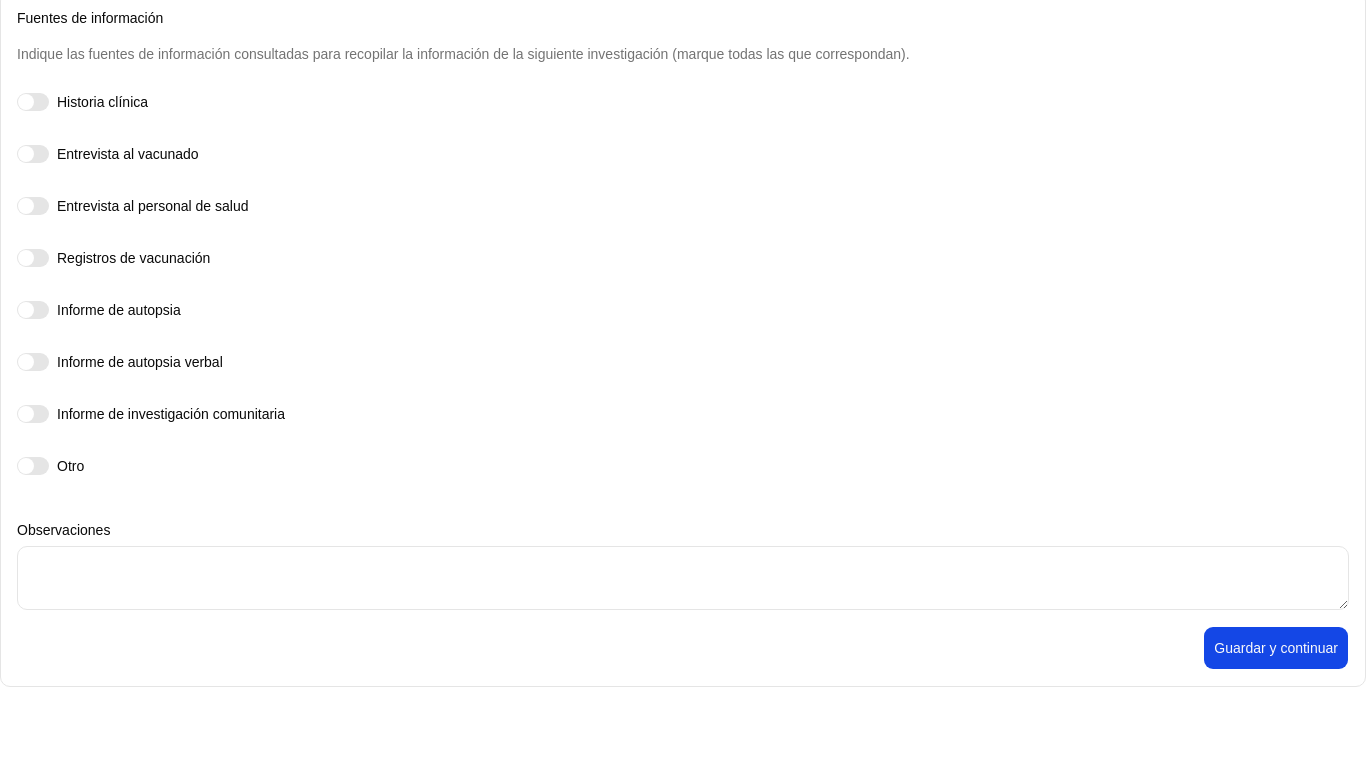
Test: InvestigationStep — el recorrido completo (SPEC FE13a §4 paso 13) › cambiar el estado a muerte y volver a otro antes de guardar no crea la fila de autopsia
Step 1. Click the button "Guardar y continuar" → [1276, 648], box [1203, 626, 1349, 670]
(page scrolled)
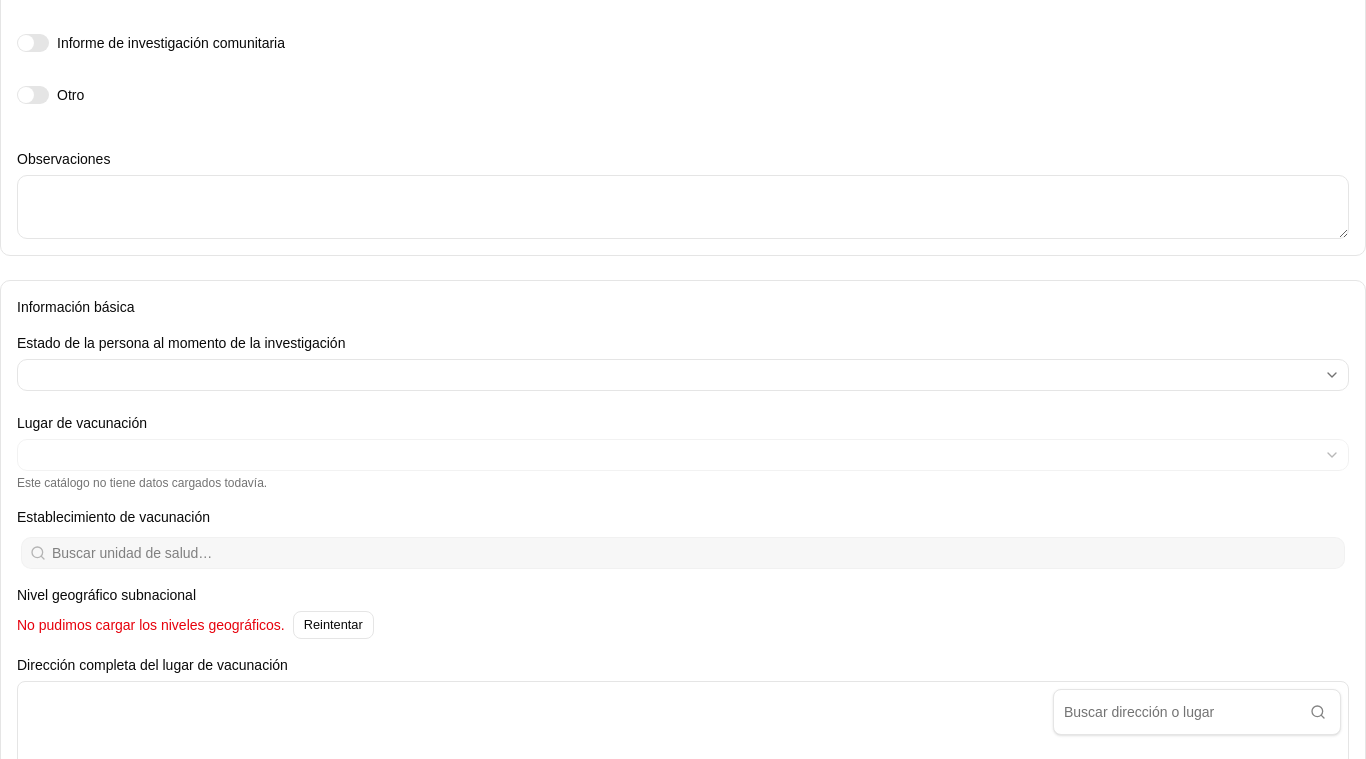
Check: the heading "Información básica" is shown, box [17, 299, 134, 315]
Step 2. Click the dropdown named "Estado de la persona al momento de la investigación" → [1332, 375], box [17, 359, 1349, 391]
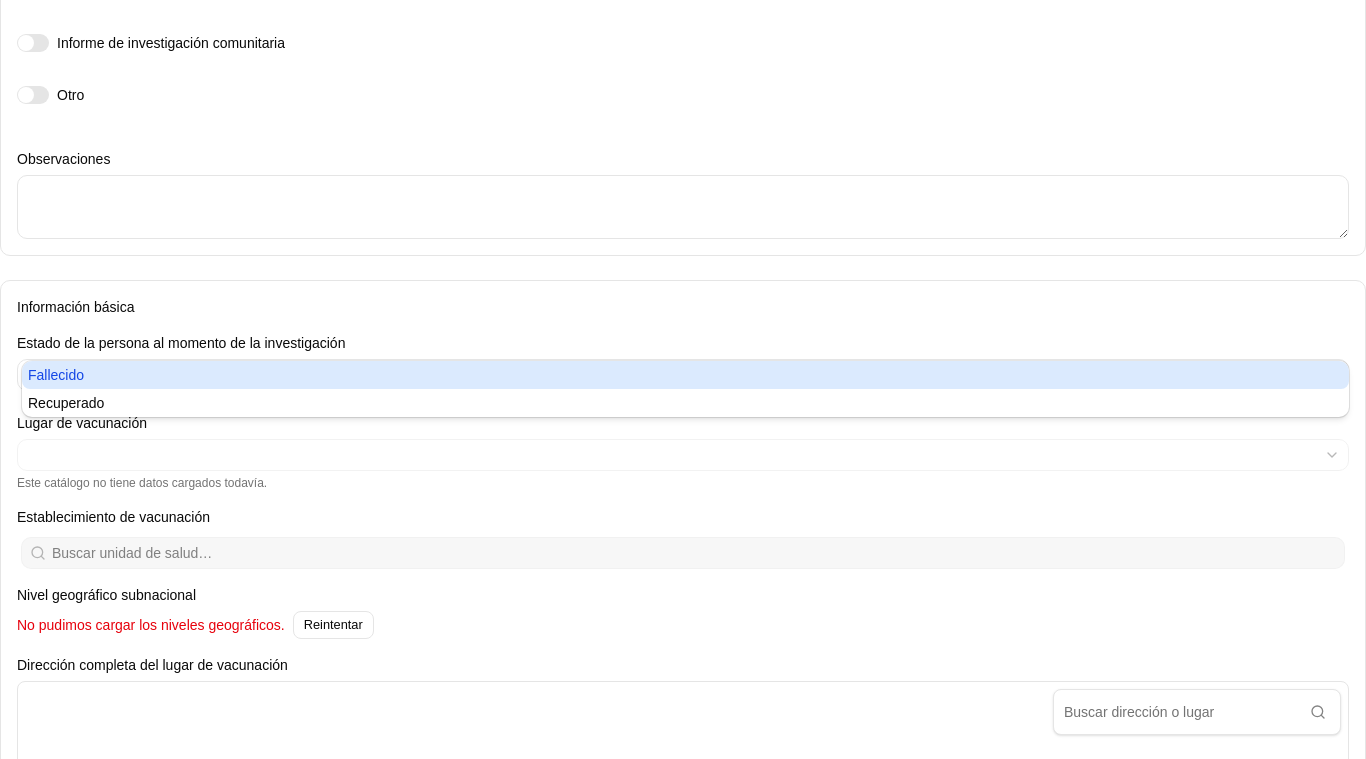
Step 3. Click the option "Fallecido" → [56, 375], box [22, 361, 1349, 389]
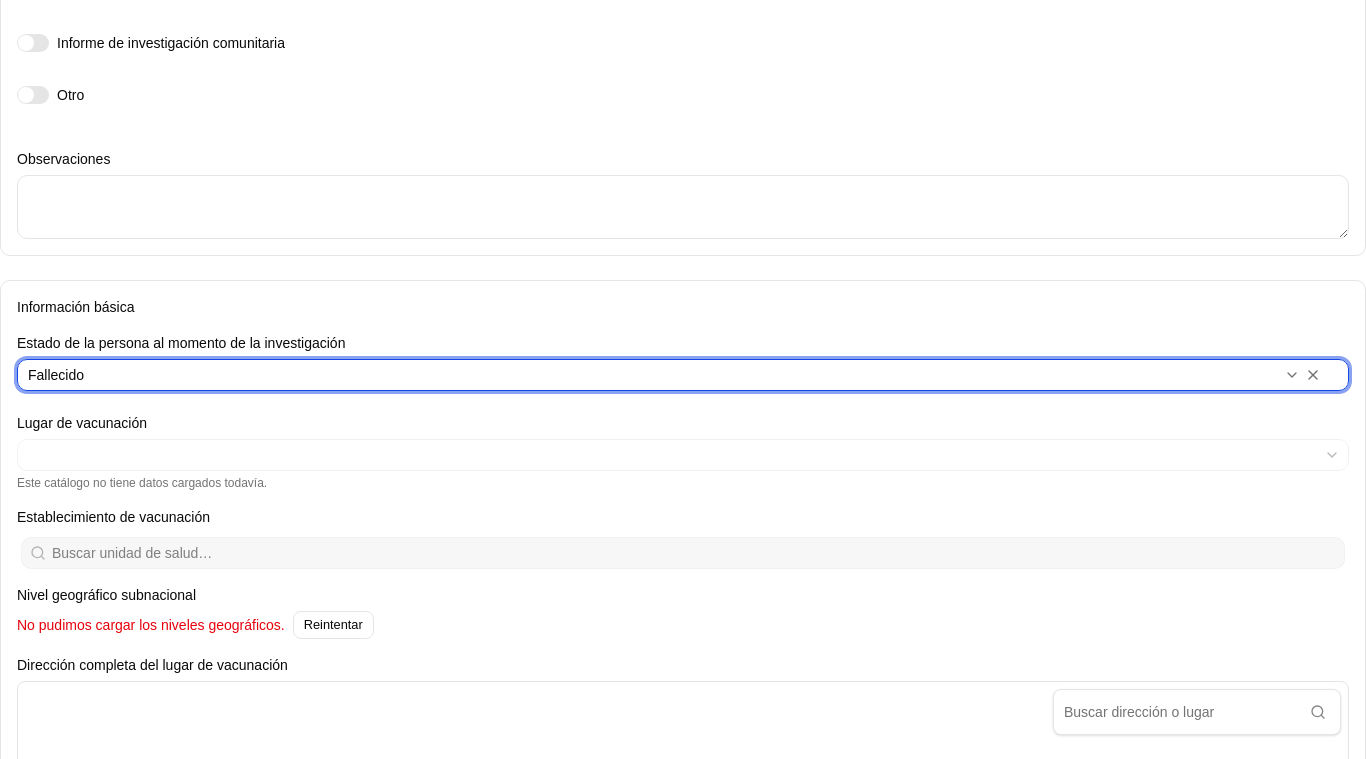
Step 4. Click the dropdown named "Estado de la persona al momento de la investigación" → [56, 375], box [17, 359, 1349, 391]
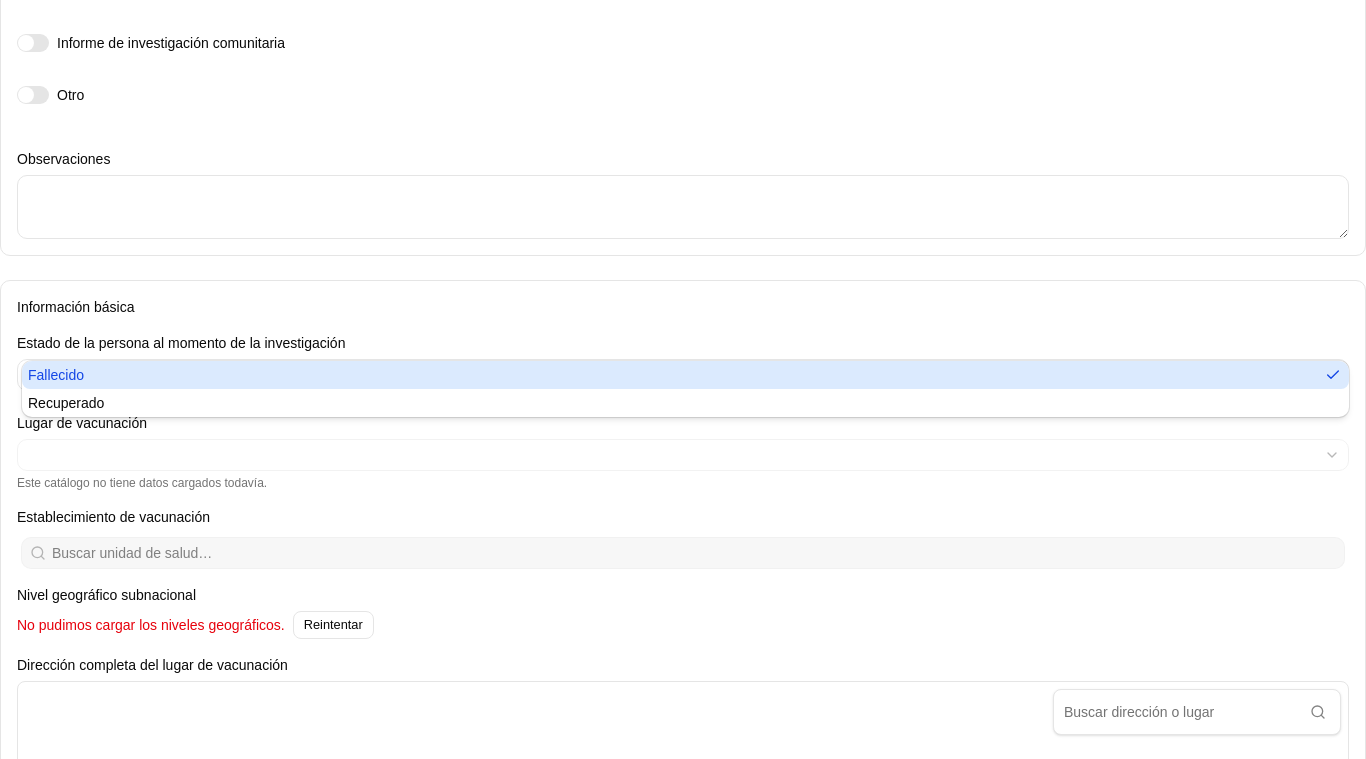
Step 5. Click the option "Recuperado" → [66, 403], box [28, 395, 104, 411]
(page scrolled)
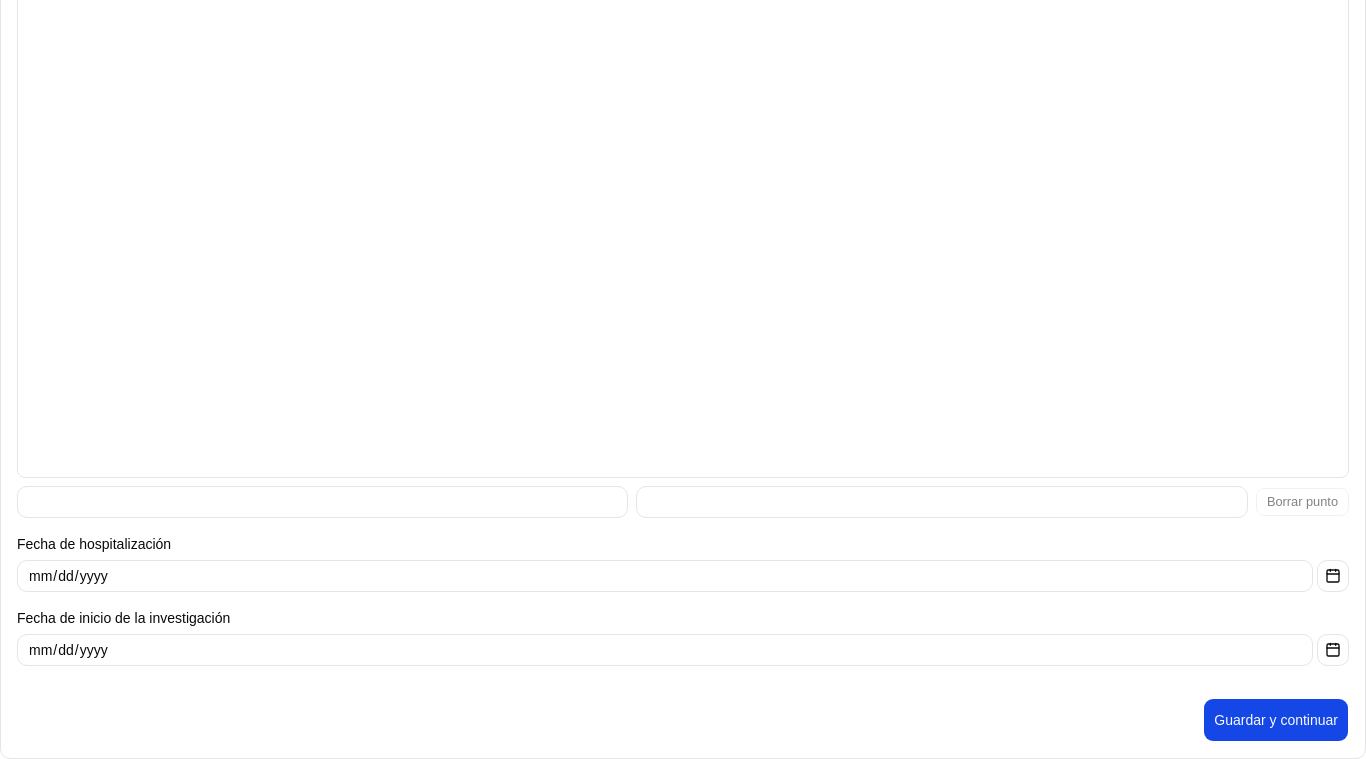
Step 6. Click the button "Guardar y continuar" → [1276, 720], box [1203, 698, 1349, 742]
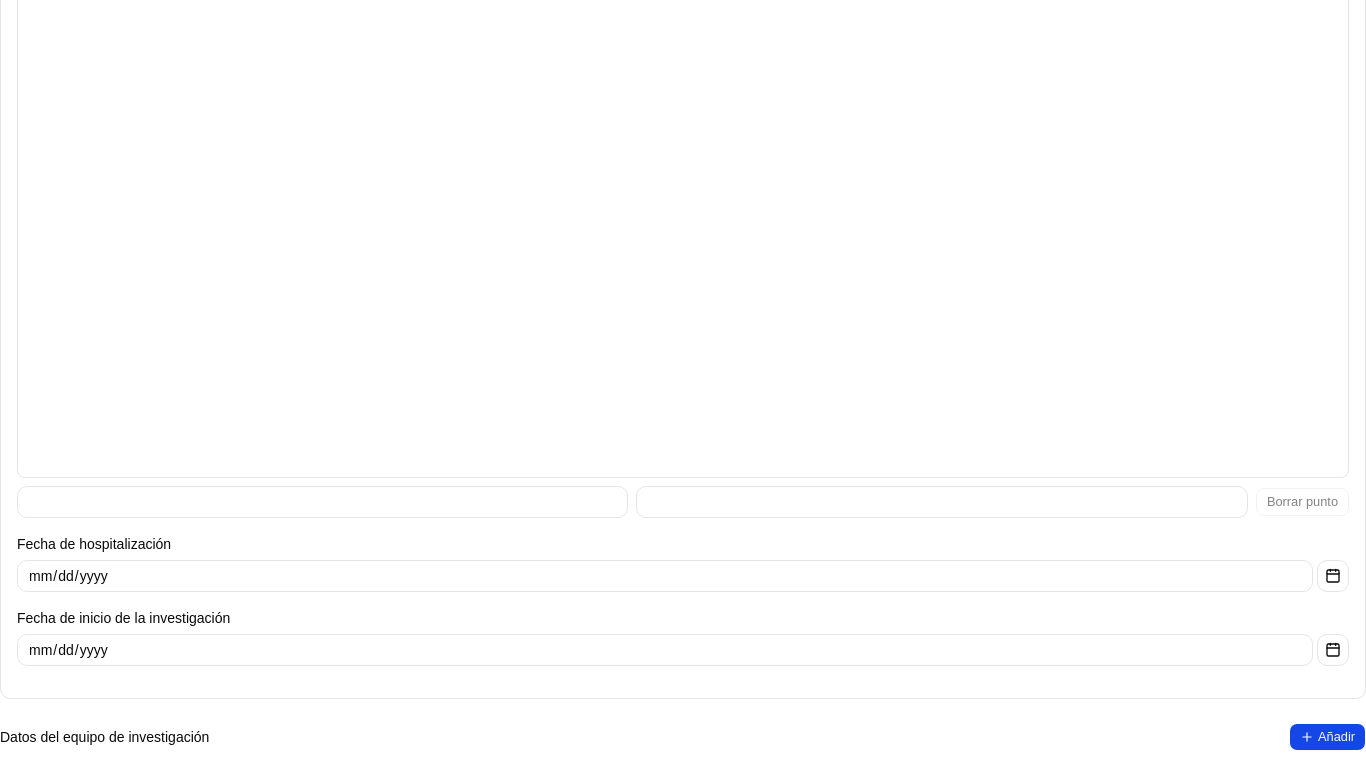
Check: the heading "Datos del equipo de investigación" is shown, box [0, 726, 209, 746]
